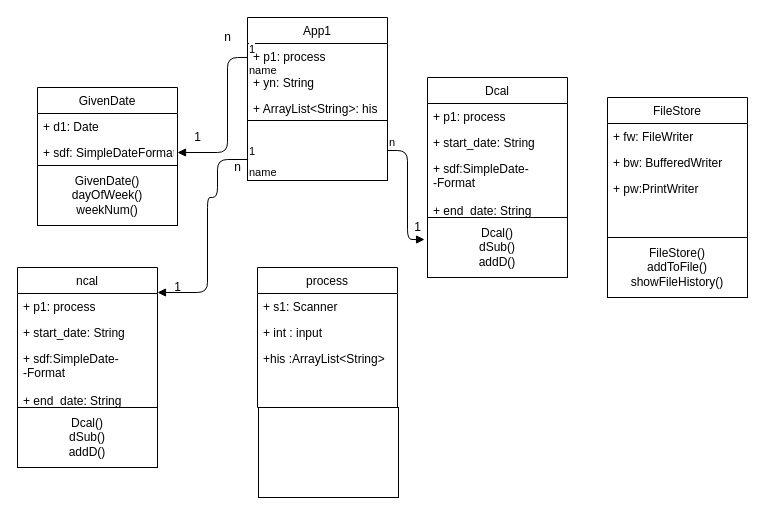
Some shapes in this 765 by 515 pixel diagram are drawn without their labels. The shapes that lost their labels are listed below. From the top down, each one's centre as x and y in pixels, then its label:
point 317,150: main() Process()
point 328,452: process() process1() process2() process3() process4() process5()
